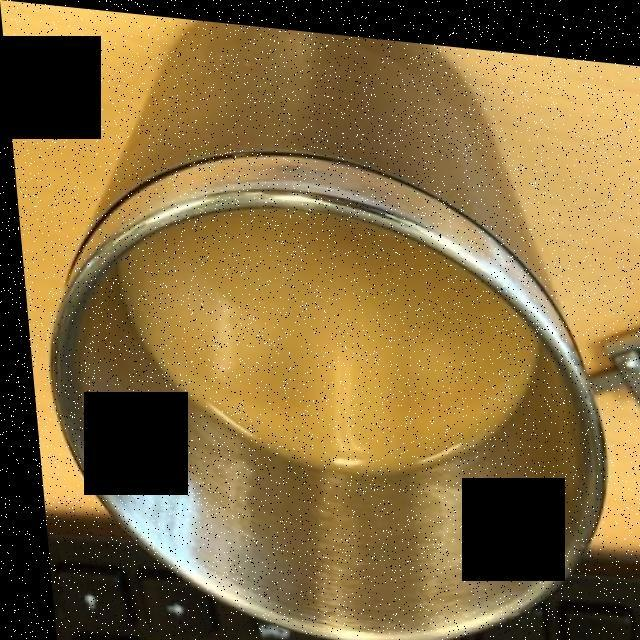coffee: (127, 208, 529, 470)
